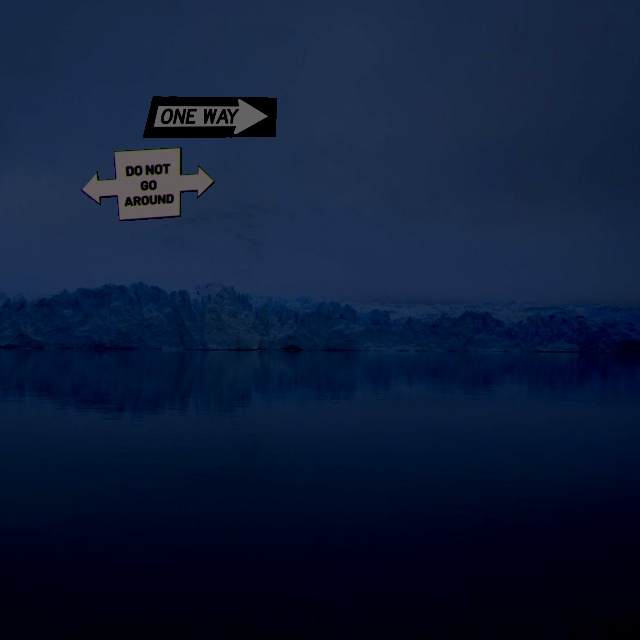DO_NOT_GO_AROUND: (80, 147, 215, 221)
ONE_WAY_ right: (142, 96, 277, 138)
